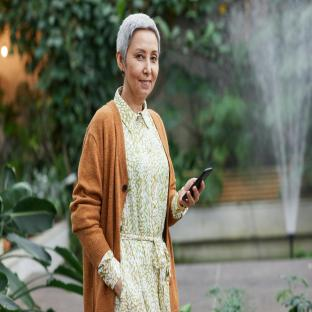Human: (70, 13, 205, 312)
